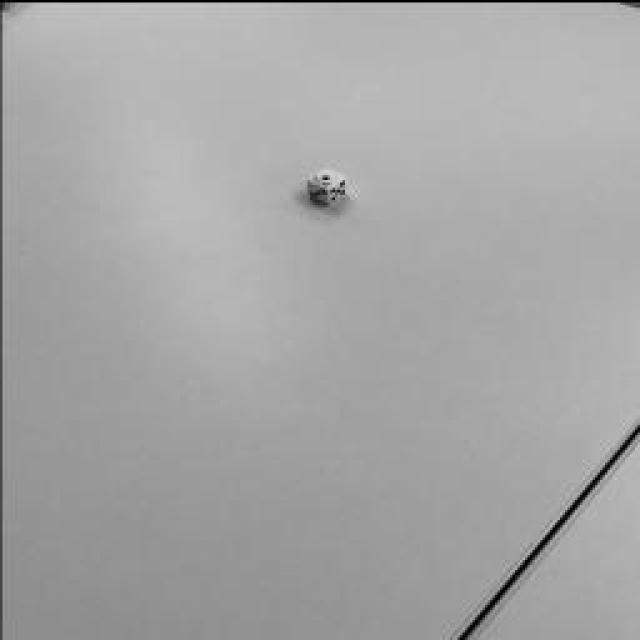dice_1: (308, 166, 342, 186)
